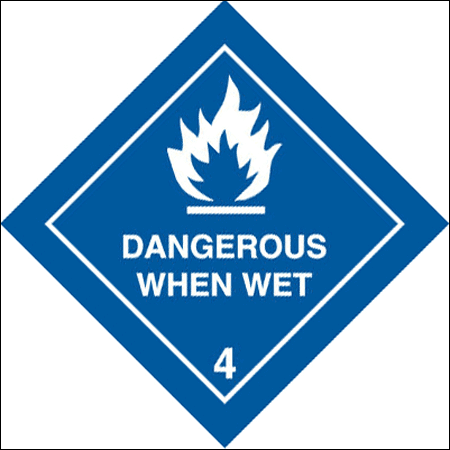Dangerous when wet: (1, 1, 450, 447)
